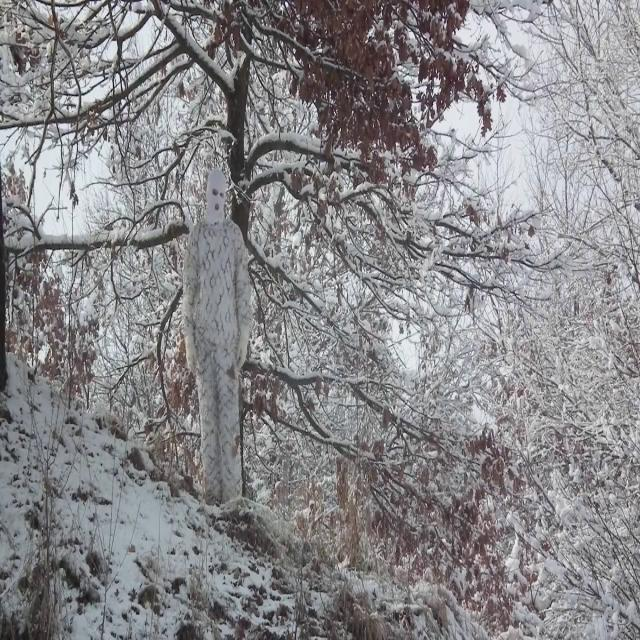Camouflage: (181, 167, 253, 507)
